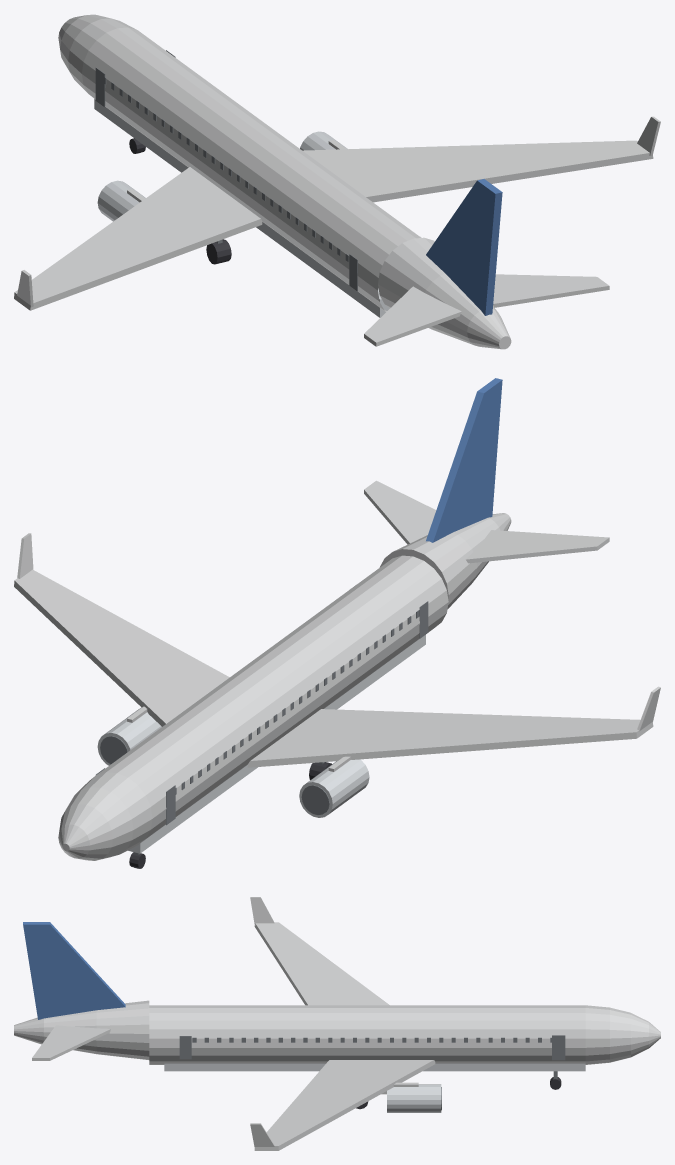
File: Airplane.fbx
3 renders of one model, top to bottom at view 1: azimuth 30°, elevation 25°; view 2: azimuth 150°, elevation 25°; view 3: azimuth 270°, elevation 25°, orthographic. The views are drawn at different scales.
Parts seen in each view (by area): view 1: Airplane; view 2: Airplane; view 3: Airplane.
Part boxes in pixels (box(x1,y1,x2,y2)): Airplane: box(14, 14, 660, 349); Airplane: box(14, 378, 660, 868); Airplane: box(14, 897, 660, 1150).
Size of the model in its own units: 3575 by 1210 by 4300.
